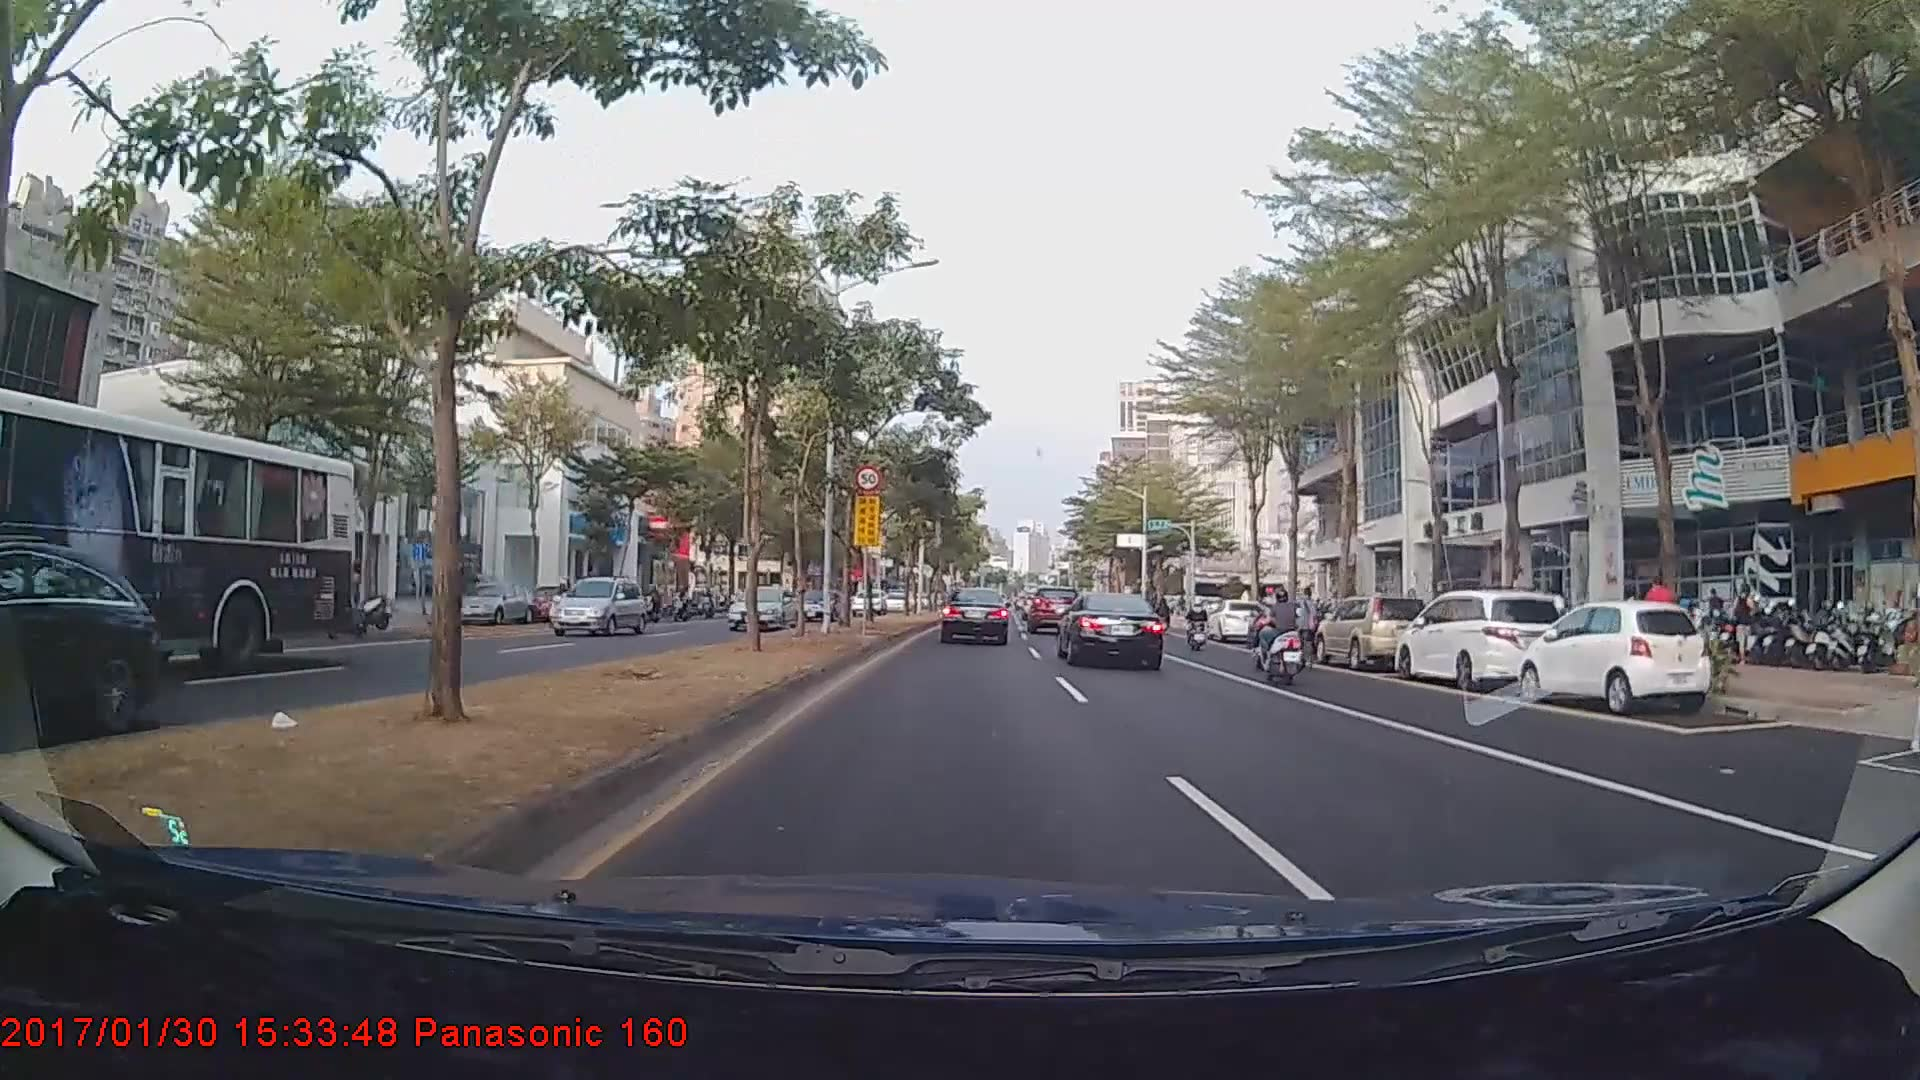rider: (1249, 582, 1320, 681), (1181, 591, 1213, 647)
vehicle: (0, 383, 353, 683), (0, 542, 160, 747), (1515, 597, 1713, 709), (1393, 587, 1565, 691), (1315, 591, 1432, 668), (1059, 588, 1166, 671), (545, 576, 648, 636), (938, 586, 1011, 645), (449, 577, 533, 625), (725, 581, 795, 629), (1208, 595, 1266, 642), (1026, 585, 1079, 631), (526, 583, 581, 621), (795, 585, 843, 619), (850, 587, 886, 612)
